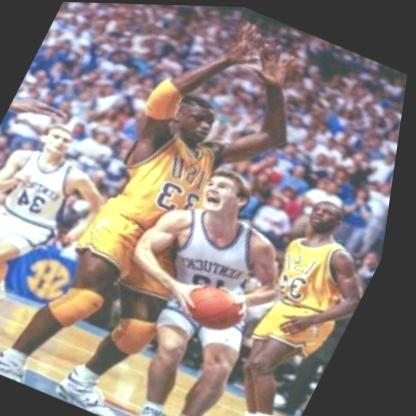basketball: (176, 271, 265, 342)
